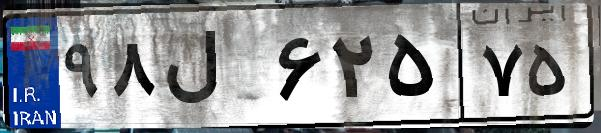2: (330, 28, 385, 110)
5: (385, 28, 445, 110), (525, 38, 570, 115)
6: (270, 28, 330, 110)
7: (475, 38, 525, 113)
8: (110, 28, 158, 98)
9: (57, 26, 110, 100)
ل: (158, 20, 270, 120)
